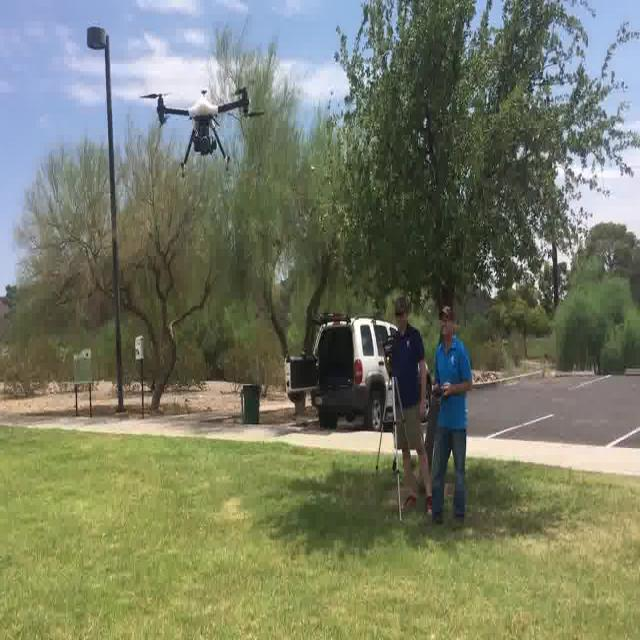Drone_FW: (140, 81, 270, 174)
